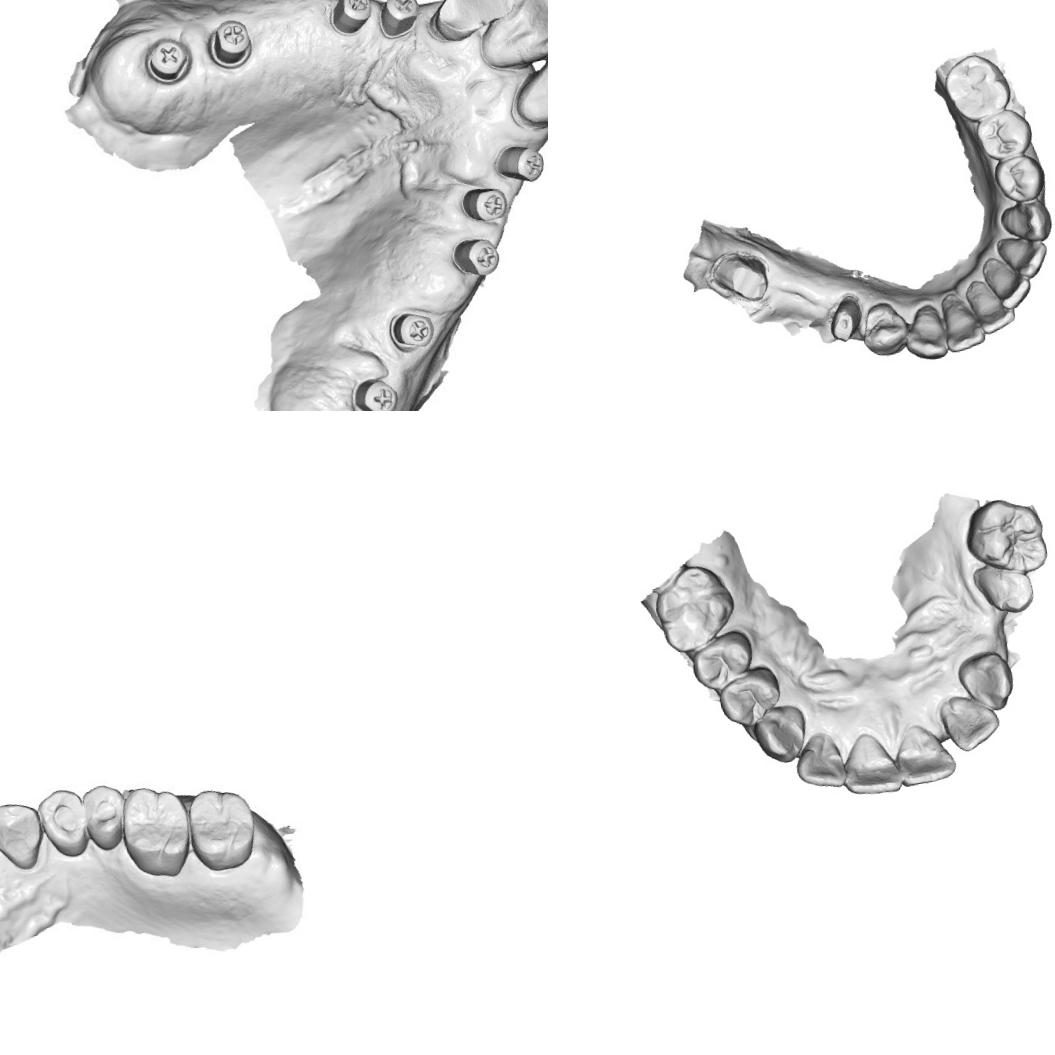canine: (955, 647, 1018, 717), (748, 700, 812, 768), (898, 294, 956, 367), (0, 791, 48, 876), (999, 189, 1055, 242)
crown: (700, 233, 786, 311), (823, 287, 874, 342)
implant_plus: (380, 298, 448, 363), (139, 29, 198, 90), (204, 14, 258, 76), (454, 176, 512, 232), (450, 228, 505, 287), (366, 0, 427, 45), (493, 138, 546, 187), (324, 0, 379, 39), (351, 372, 402, 411)
incisor: (892, 718, 960, 790), (836, 728, 904, 800), (474, 0, 548, 65), (937, 688, 1005, 754), (936, 287, 992, 356), (790, 728, 849, 793), (506, 41, 548, 130), (963, 272, 1022, 335), (435, 0, 517, 39), (982, 252, 1036, 310), (999, 228, 1050, 280)
molar: (649, 559, 742, 658), (960, 490, 1052, 582), (113, 780, 192, 886), (182, 781, 264, 878), (941, 48, 1016, 129)
premolar: (714, 662, 786, 732), (74, 778, 138, 856), (686, 626, 758, 695), (33, 780, 92, 864), (970, 557, 1038, 619), (853, 291, 911, 359), (974, 103, 1035, 164), (990, 149, 1048, 206)
